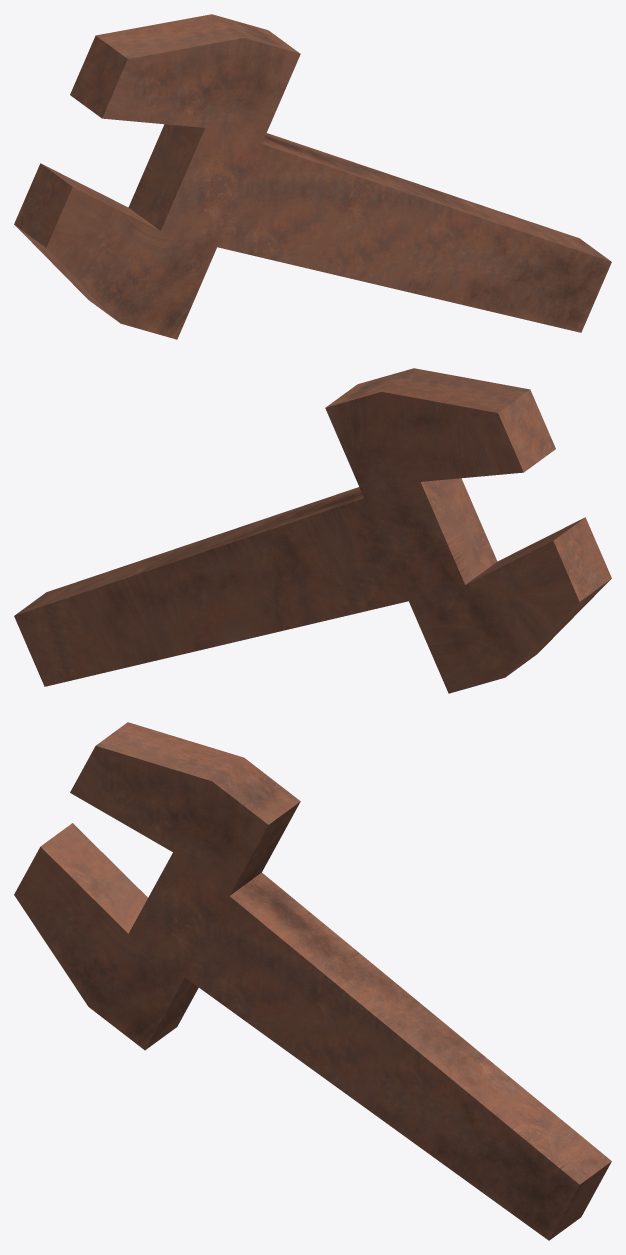
File: spanner.fbx
3 renders of one model, top to bottom at view 1: azimuth 30°, elevation 25°; view 2: azimuth 150°, elevation 25°; view 3: azimuth 330°, elevation 25°, orthographic.
Visible parts, largest first — view 1: spanner; view 2: spanner; view 3: spanner.
Boxes of the visible parts, x1,y1,x2,y2 form: spanner: (14, 14, 611, 339); spanner: (14, 368, 611, 693); spanner: (14, 722, 611, 1240).
Bounding box in the file's own units: 2.47 × 1.6 × 0.2439.
